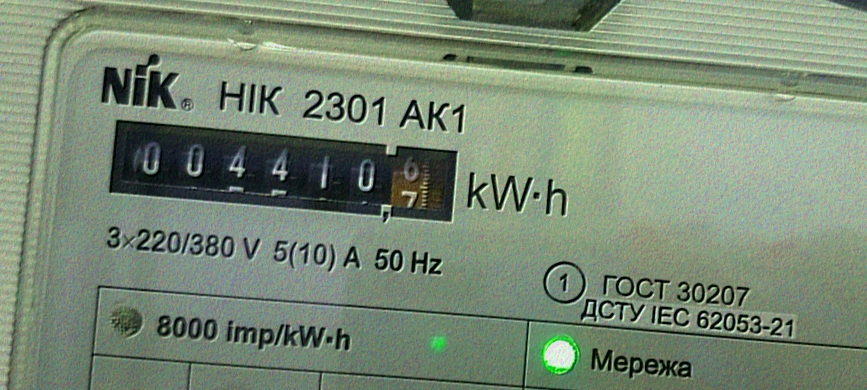0: (138, 138, 162, 177), (354, 156, 377, 194), (183, 140, 204, 179)
1: (314, 153, 331, 191)
4: (224, 140, 249, 180), (267, 145, 292, 185)
6: (402, 155, 421, 183)
7: (397, 188, 417, 209)
screen: (96, 106, 470, 235)
